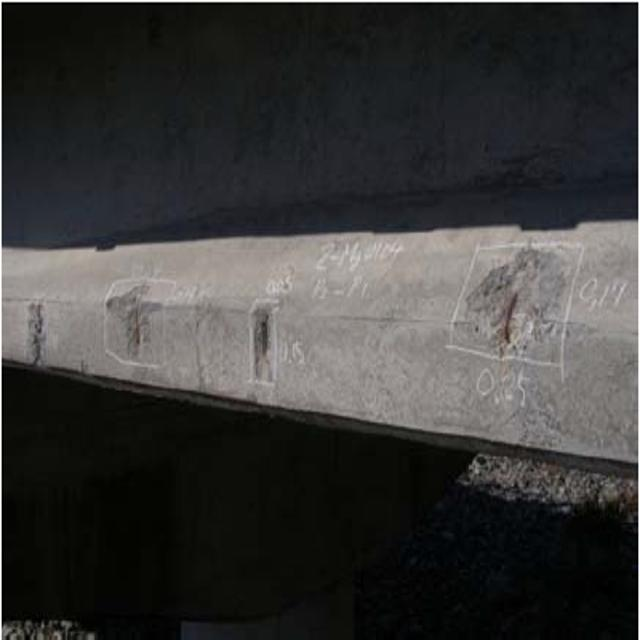spalling: (450, 230, 583, 381), (103, 270, 170, 366), (244, 298, 286, 392), (23, 293, 67, 371)
